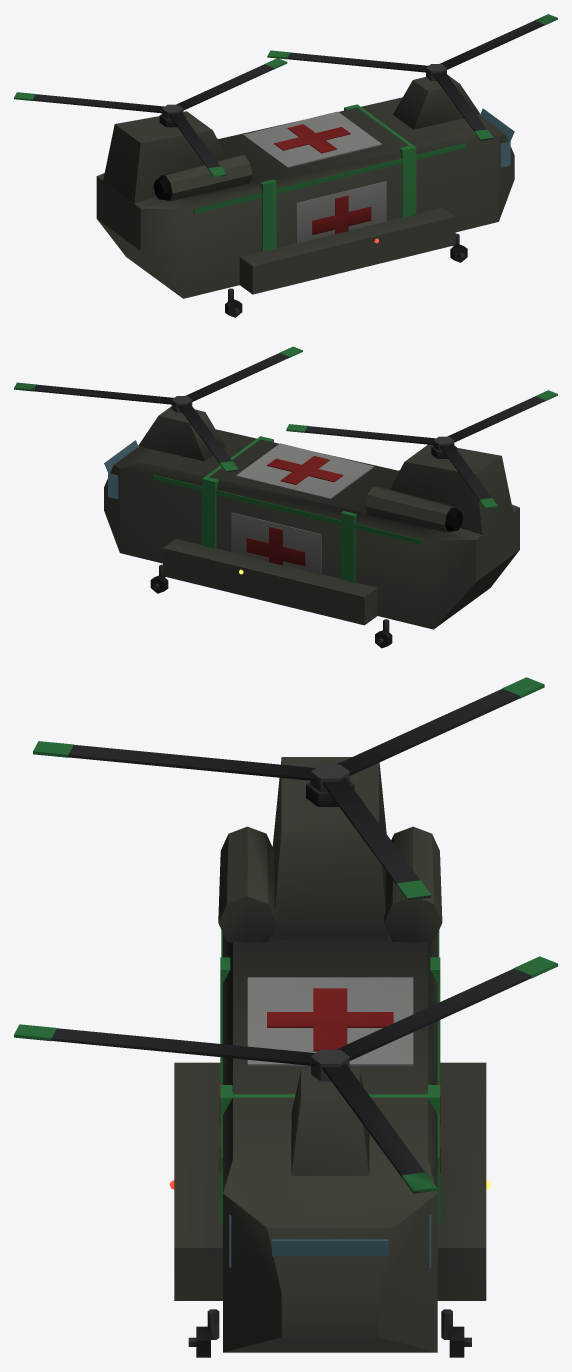
The model's file is u_medevac_lod1.glb.
The picture shows the model from 3 angles, top to bottom: view 1: azimuth 30°, elevation 25°; view 2: azimuth 150°, elevation 25°; view 3: azimuth 270°, elevation 25°; orthographic projection. The views are drawn at different scales.
Visible parts, largest first — view 1: Medevac_LOD1_Walls, Medevac_LOD1_Details, Medevac_LOD1_rotor; view 2: Medevac_LOD1_Walls, Medevac_LOD1_Details, Medevac_LOD1_rotor; view 3: Medevac_LOD1_Walls, Medevac_LOD1_Details, Medevac_LOD1_rotor.
Part boxes in pixels (left/top/right/bottom): Medevac_LOD1_Walls: left=96, top=74, right=514, bottom=298; Medevac_LOD1_Details: left=14, top=58, right=514, bottom=317; Medevac_LOD1_rotor: left=267, top=14, right=557, bottom=140; Medevac_LOD1_Walls: left=104, top=406, right=519, bottom=629; Medevac_LOD1_Details: left=104, top=390, right=557, bottom=648; Medevac_LOD1_rotor: left=14, top=346, right=302, bottom=472; Medevac_LOD1_Walls: left=174, top=757, right=486, bottom=1352; Medevac_LOD1_Details: left=33, top=677, right=544, bottom=1357; Medevac_LOD1_rotor: left=14, top=956, right=557, bottom=1193.
Bounding box in the file's own units: 2.28 × 0.82 × 1.12.
